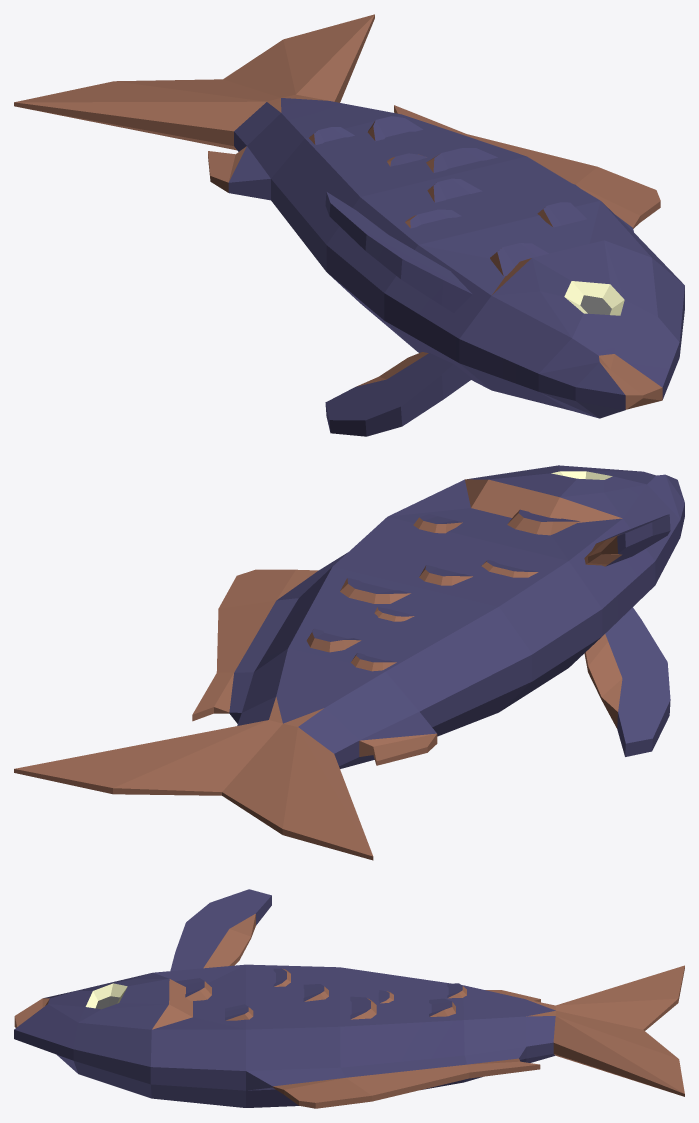
The model's file is fish_2.FBX.
3 views of the same model, one above another, from view 1: azimuth 30°, elevation 25°; view 2: azimuth 150°, elevation 25°; view 3: azimuth 270°, elevation 25° (orthographic). The views are drawn at different scales.
Visible parts, largest first — view 1: fish_2; view 2: fish_2; view 3: fish_2.
Boxes of the visible parts, left/top/right/bottom form: fish_2: left=14, top=14, right=684, bottom=436; fish_2: left=14, top=465, right=684, bottom=860; fish_2: left=14, top=889, right=684, bottom=1108.
Bounding box in the file's own units: 17.68 × 9.98 × 36.06.
